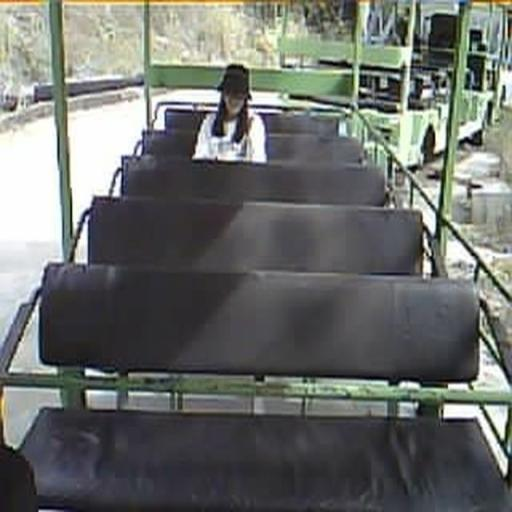persona: (192, 62, 269, 164)
